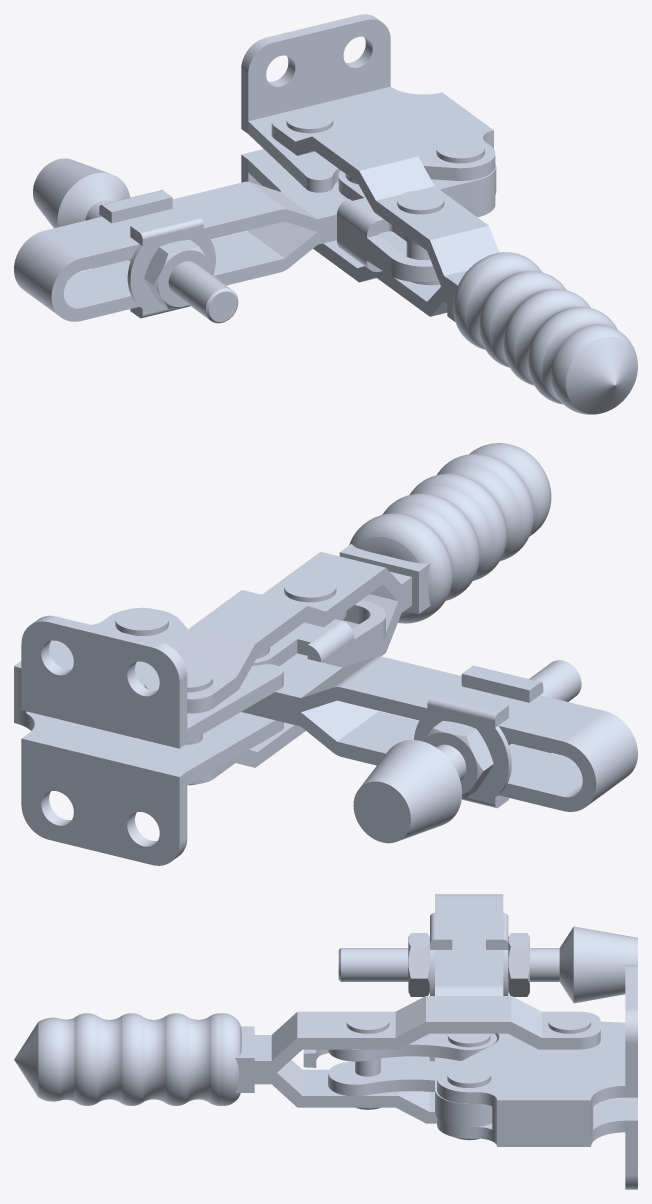
The model's file is Misumi-C-LD-12130.obj.
The picture shows the model from 3 angles, top to bottom: view 1: azimuth 30°, elevation 25°; view 2: azimuth 150°, elevation 25°; view 3: azimuth 270°, elevation 25°; orthographic projection. The views are drawn at different scales.
Visible parts, largest first — view 1: Body1:1, Body1, Body1:2, Body1:4, Body1:6, Body1:3, Body1:5, Body1:7; view 2: Body1, Body1:1, Body1:2, Body1:4, Body1:6, Body1:7, Body1:8, Body1:3; view 3: Body1:1, Body1, Body1:4, Body1:2, Body1:6, Body1:8, Body1:5, Body1:7, Body1:3.
Part boxes in pixels (left/top/right/bottom): Body1:1: left=271, top=107, right=637, bottom=414; Body1: left=241, top=14, right=495, bottom=217; Body1:2: left=14, top=163, right=496, bottom=321; Body1:4: left=33, top=158, right=238, bottom=323; Body1:6: left=337, top=170, right=439, bottom=285; Body1:3: left=127, top=211, right=215, bottom=318; Body1:5: left=144, top=239, right=213, bottom=308; Body1:7: left=92, top=190, right=172, bottom=268; Body1: left=14, top=607, right=283, bottom=865; Body1:1: left=144, top=443, right=551, bottom=785; Body1:2: left=241, top=655, right=637, bottom=811; Body1:4: left=353, top=660, right=581, bottom=843; Body1:6: left=252, top=600, right=385, bottom=667; Body1:7: left=414, top=689, right=511, bottom=808; Body1:8: left=423, top=720, right=493, bottom=797; Body1:3: left=461, top=665, right=550, bottom=752; Body1:1: left=14, top=996, right=600, bottom=1123; Body1: left=437, top=965, right=637, bottom=1189; Body1:4: left=338, top=926, right=637, bottom=1003; Body1:2: left=435, top=894, right=503, bottom=1127; Body1:6: left=303, top=1033, right=496, bottom=1096; Body1:8: left=508, top=933, right=529, bottom=996; Body1:5: left=408, top=933, right=429, bottom=996; Body1:7: left=486, top=912, right=508, bottom=995; Body1:3: left=430, top=912, right=452, bottom=995.
Bounding box in the file's own units: 117 × 46 × 146.
